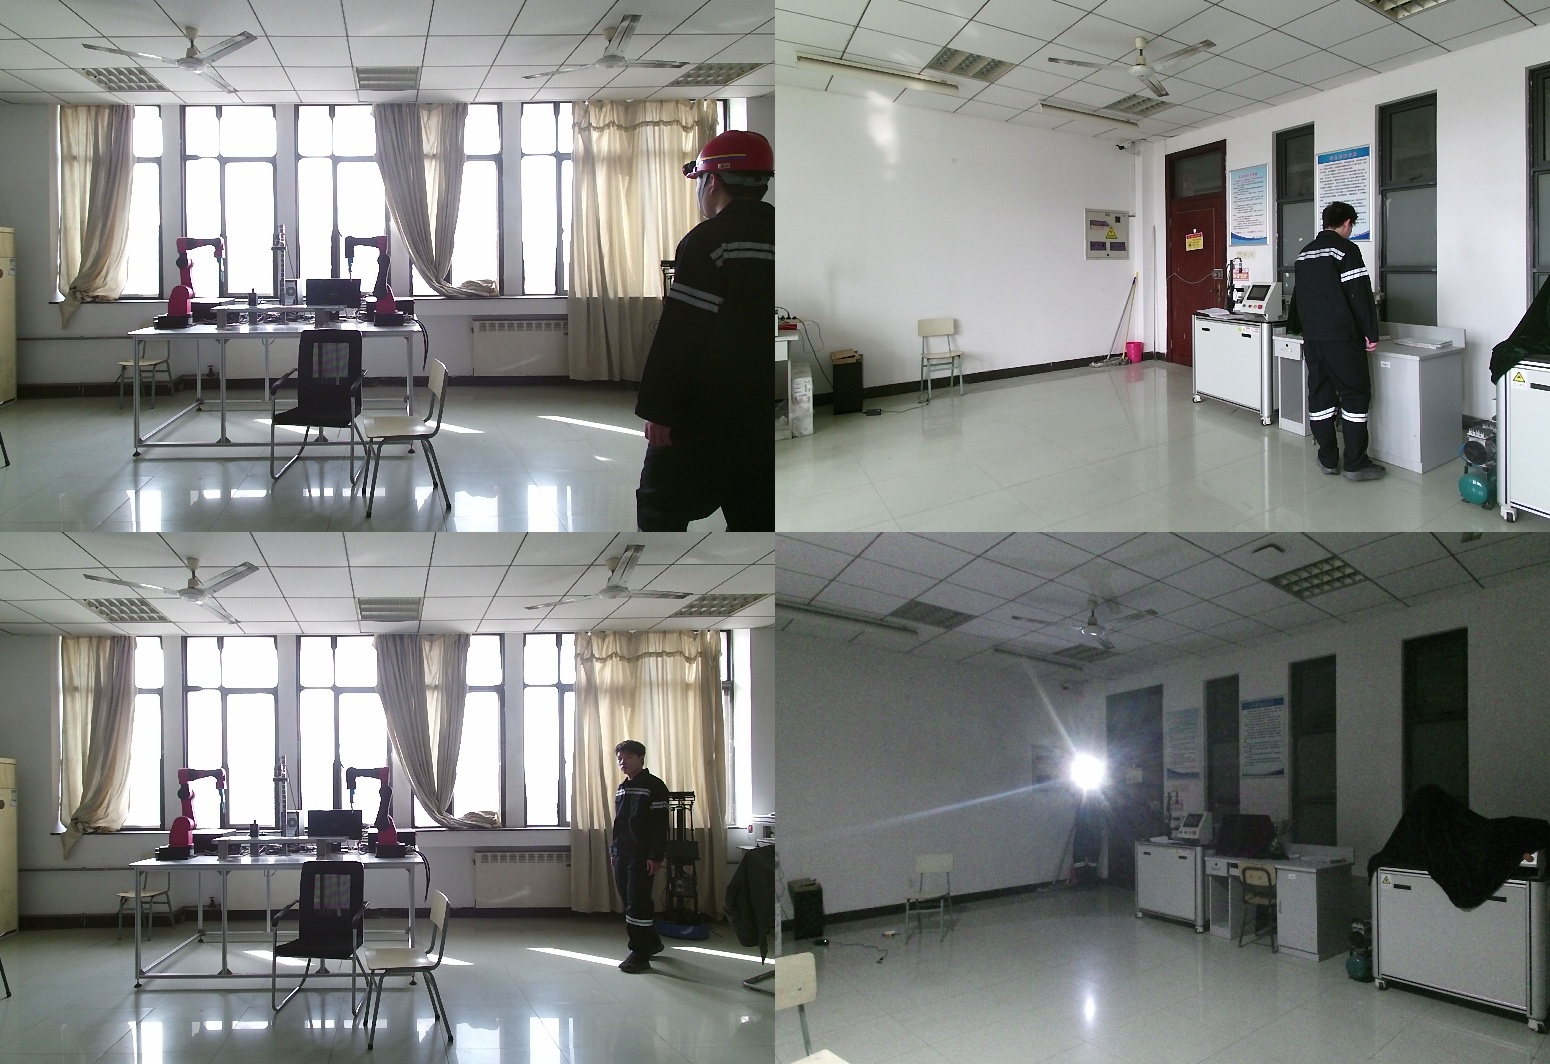person: (636, 131, 775, 532), (1290, 204, 1390, 487), (616, 742, 683, 977), (1062, 767, 1108, 894)
